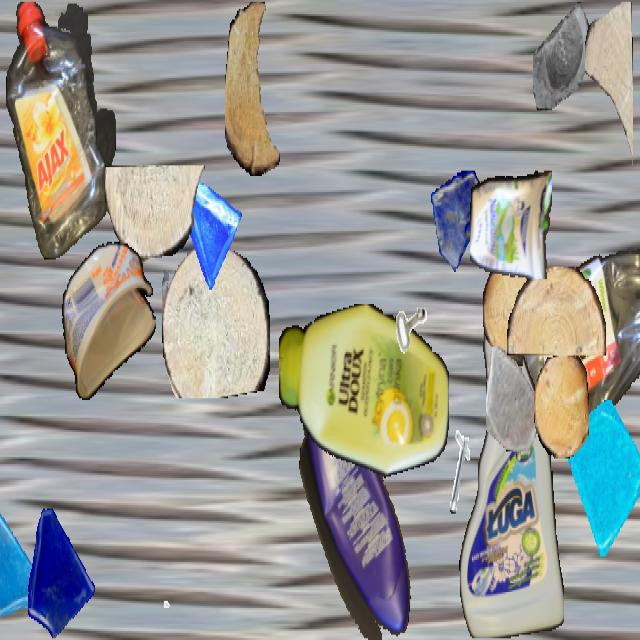glass: (567, 400, 640, 556), (19, 500, 97, 638), (172, 167, 242, 292), (533, 2, 593, 108), (0, 496, 44, 638), (486, 346, 544, 449), (431, 171, 487, 270)
metal: (375, 254, 435, 361), (435, 430, 491, 530), (139, 553, 177, 620)
plastic: (459, 301, 563, 638), (279, 304, 449, 482), (296, 386, 416, 638), (5, 2, 115, 258), (521, 213, 640, 423), (62, 242, 156, 402), (470, 164, 552, 278)
wood: (162, 242, 270, 398), (225, 2, 285, 176), (105, 166, 205, 262), (507, 266, 605, 356), (585, 2, 633, 172), (534, 356, 588, 458), (483, 260, 533, 366)
